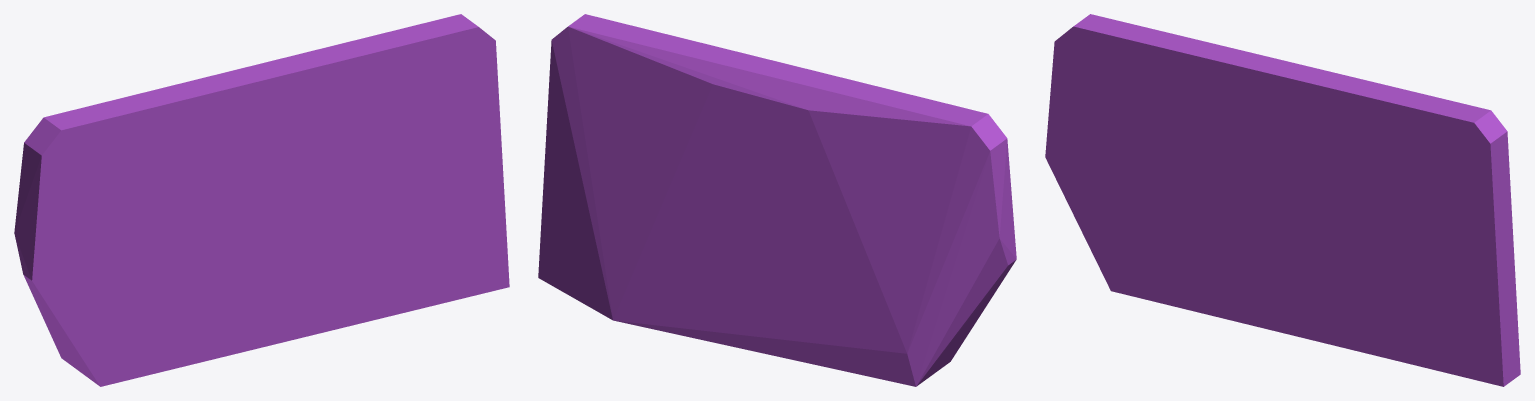
The picture shows the model from 3 angles, left to right: view 1: azimuth 30°, elevation 25°; view 2: azimuth 150°, elevation 25°; view 3: azimuth 330°, elevation 25°; orthographic projection. The views are drawn at different scales.
Bounding box in the file's own units: 12.42 × 6.8 × 1.71.
